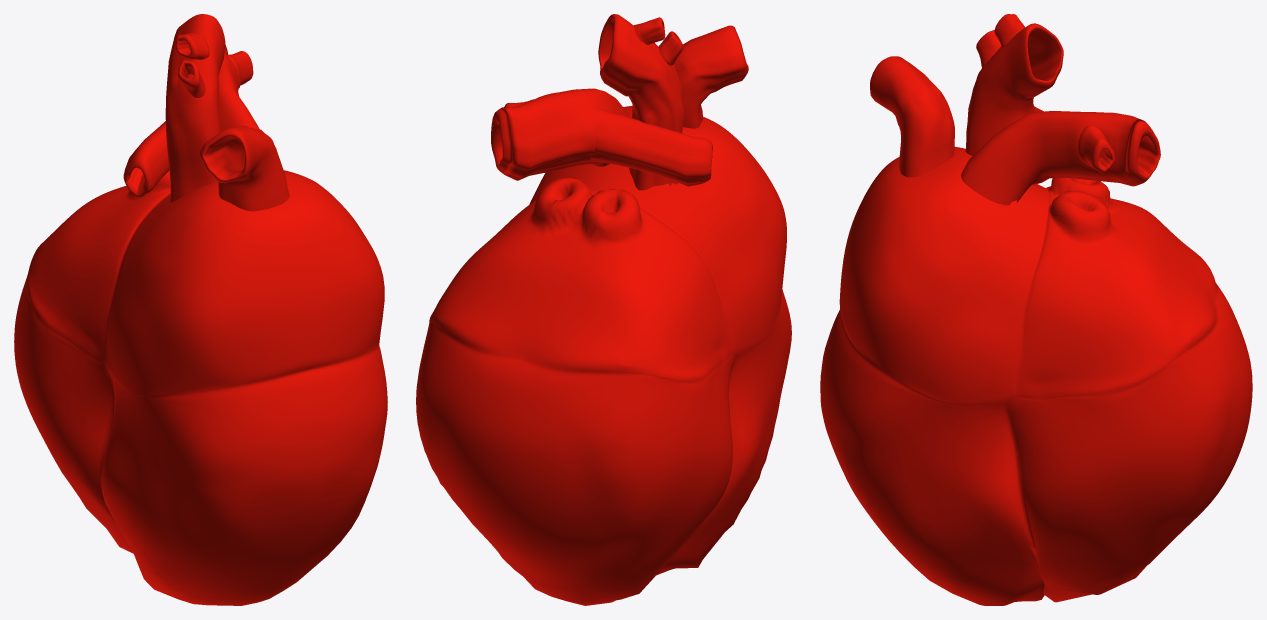
The model's file is myheart.fbx.
The picture shows the model from 3 angles, left to right: view 1: azimuth 30°, elevation 25°; view 2: azimuth 150°, elevation 25°; view 3: azimuth 270°, elevation 25°; orthographic projection.
Parts seen in each view (by area): view 1: Sphere.001; view 2: Sphere.001; view 3: Sphere.001.
Boxes of the visible parts, bbox=[...] form: Sphere.001: bbox=[14, 14, 387, 605]; Sphere.001: bbox=[416, 14, 791, 605]; Sphere.001: bbox=[820, 14, 1252, 605].
Bounding box in the file's own units: 435 × 879 × 602.
